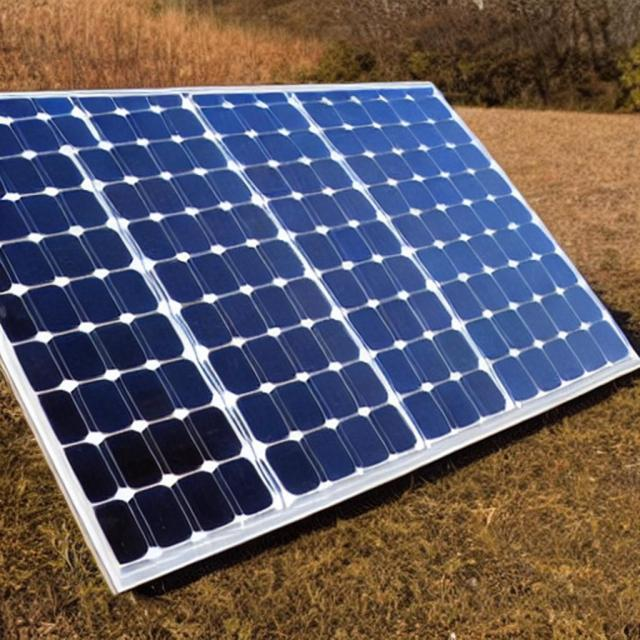no faulty: (2, 95, 636, 578)
